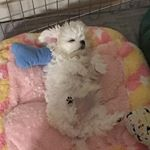puppy: (38, 16, 128, 150)
